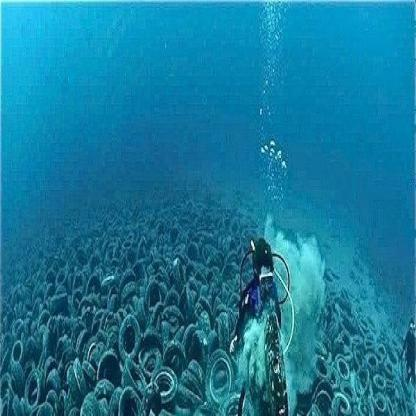tire: (4, 238, 232, 416), (320, 306, 400, 416)
